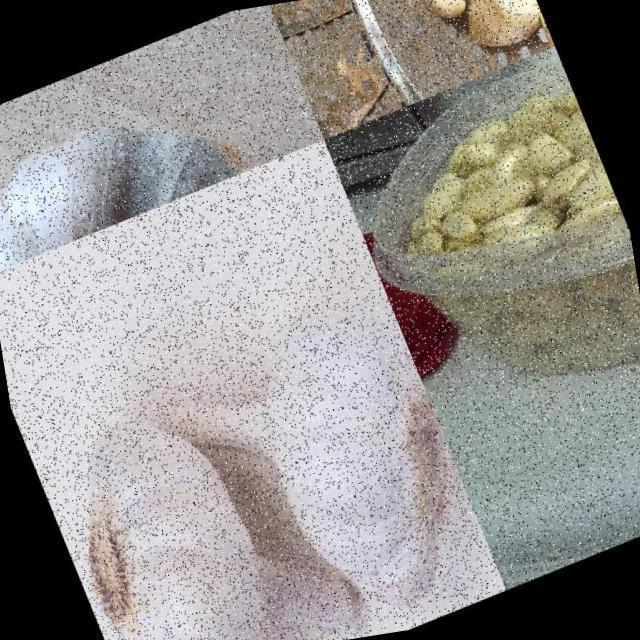garlic: (139, 260, 505, 640), (21, 350, 370, 640), (360, 72, 640, 433), (0, 67, 281, 281), (396, 0, 558, 94)
